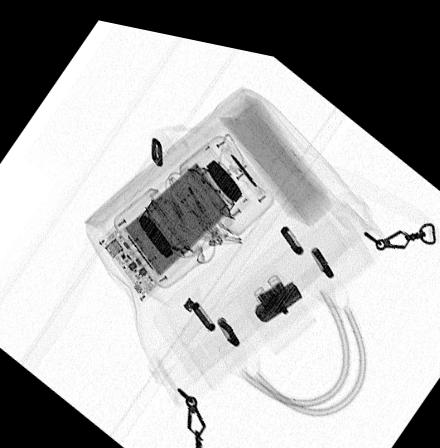Powerbank: (96, 134, 253, 297)
